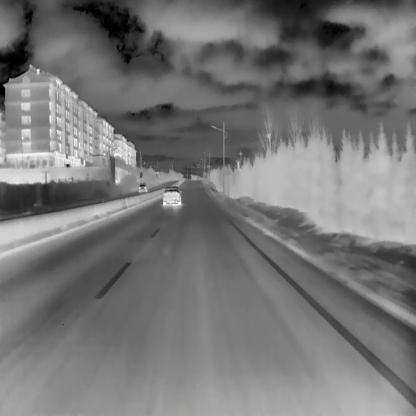car: (161, 184, 182, 205), (137, 181, 148, 192)
